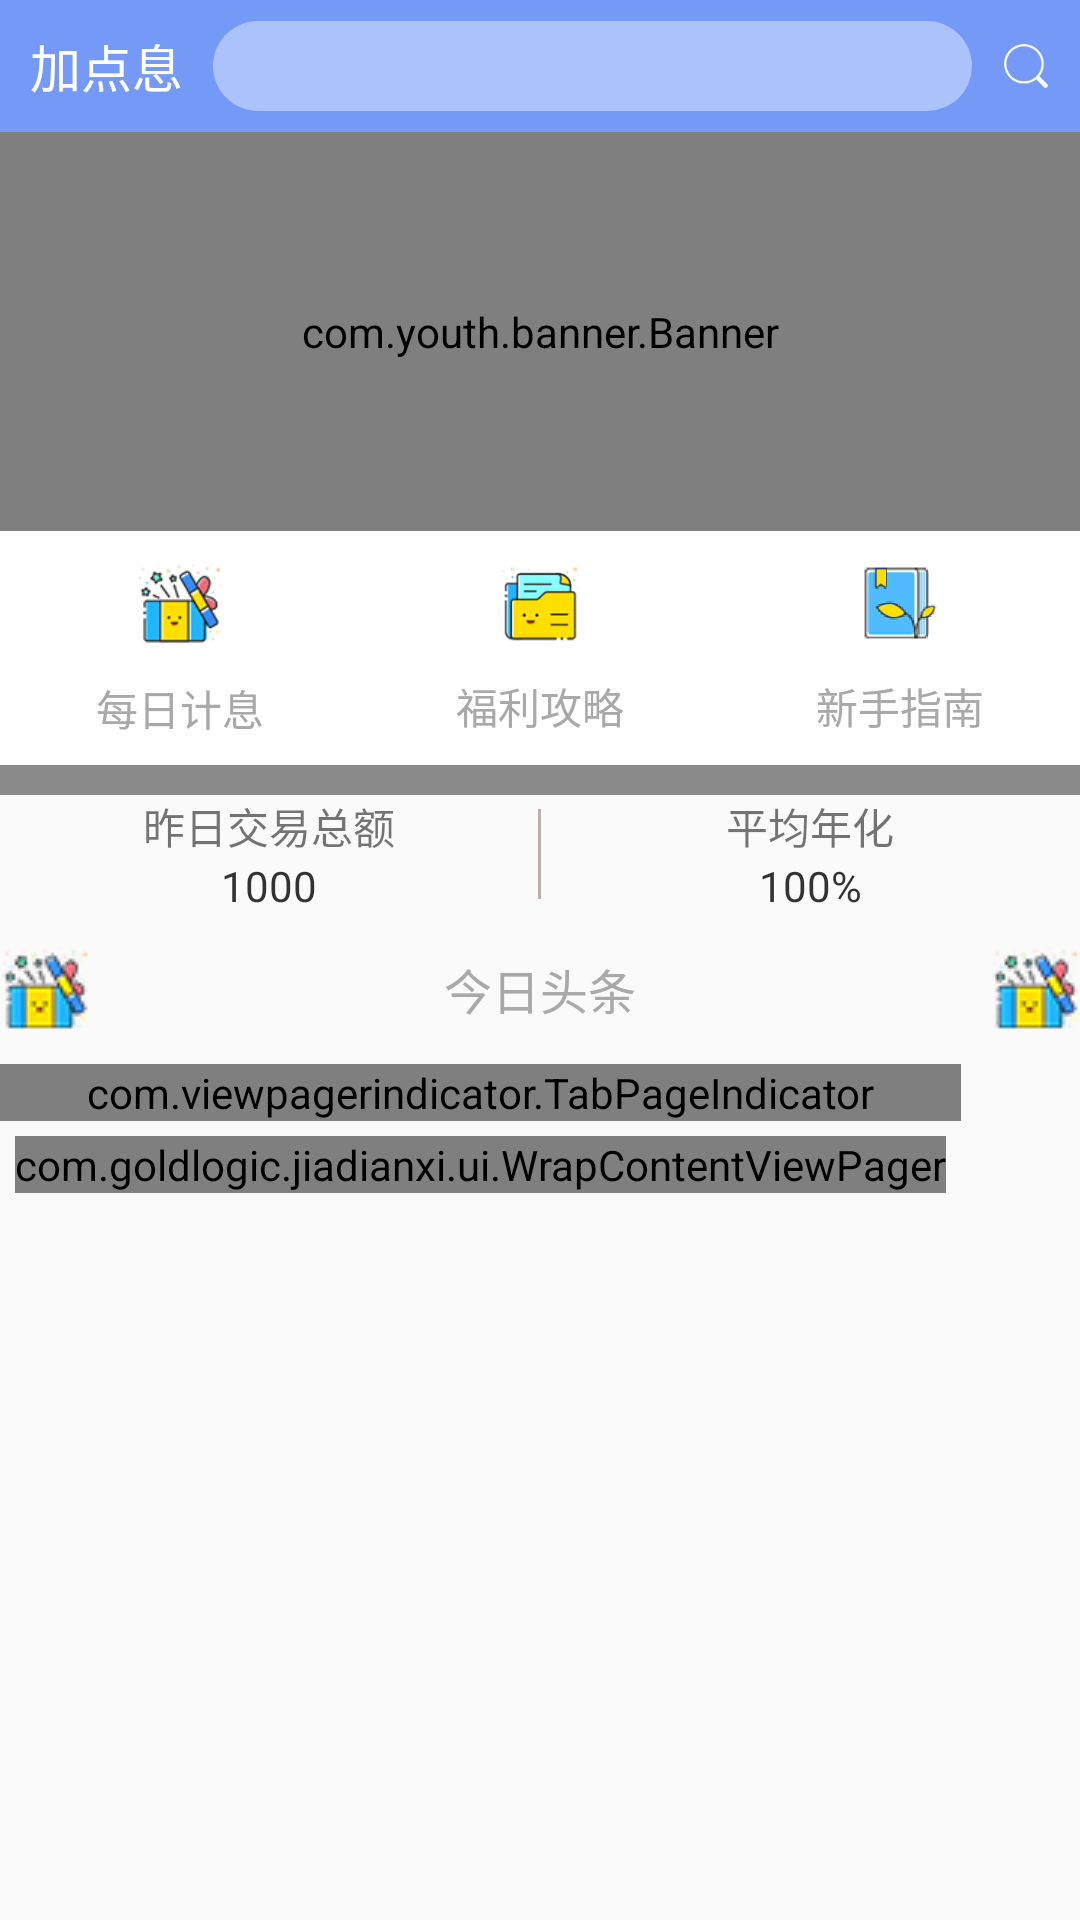

Screen size 1080 x 1920. Icon name, then its center in pixels as [x,y]:
activity: [180,604], [46,990], [1036,990]
guide: [900,603]
search: [1026,66]
